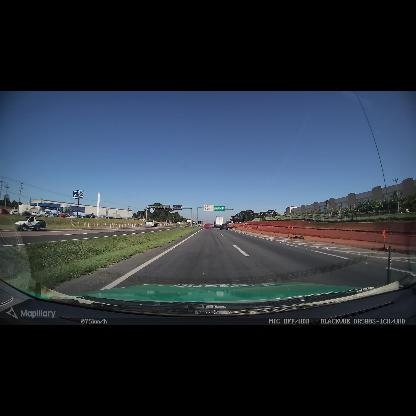O-MP: (235, 225, 236, 229), (198, 224, 199, 227)
R-19: (204, 205, 214, 211)
